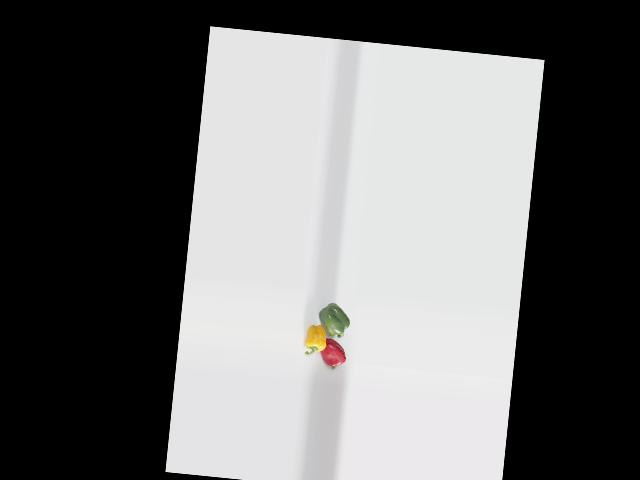bell_pepper: (301, 323, 332, 357)
